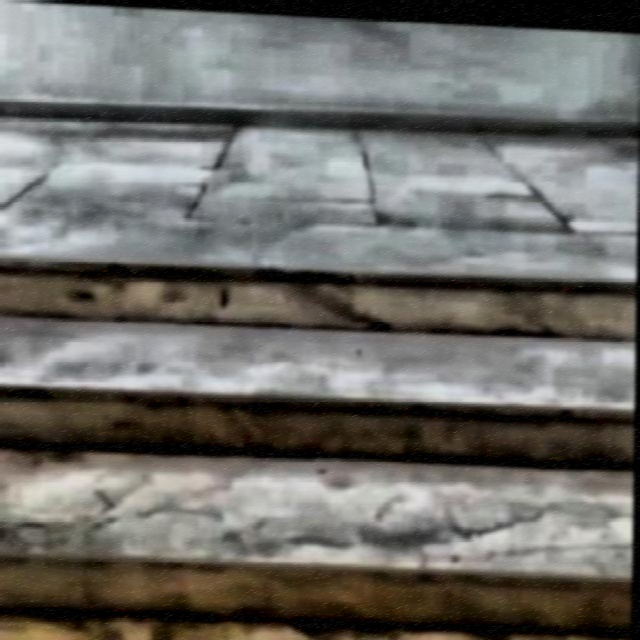stair: (0, 248, 637, 638)
